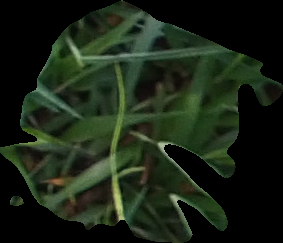grass: (1, 2, 282, 242)
